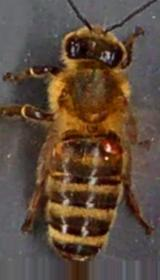varroa_mite: (95, 132, 126, 160)
